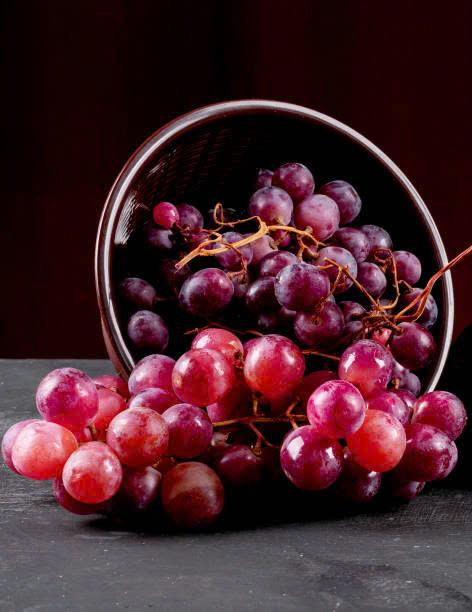grape: (4, 416, 87, 477), (248, 334, 306, 418), (407, 396, 471, 469), (41, 360, 106, 429), (114, 403, 174, 467), (169, 454, 223, 522), (180, 353, 238, 410), (311, 384, 368, 439)
